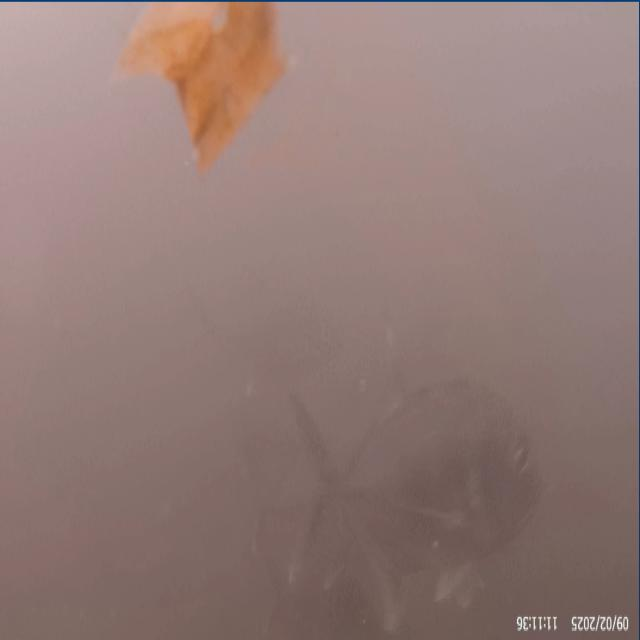ikan: (277, 330, 560, 583)
